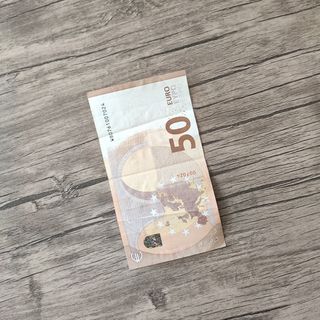50EUROBack: (86, 67, 228, 271)
